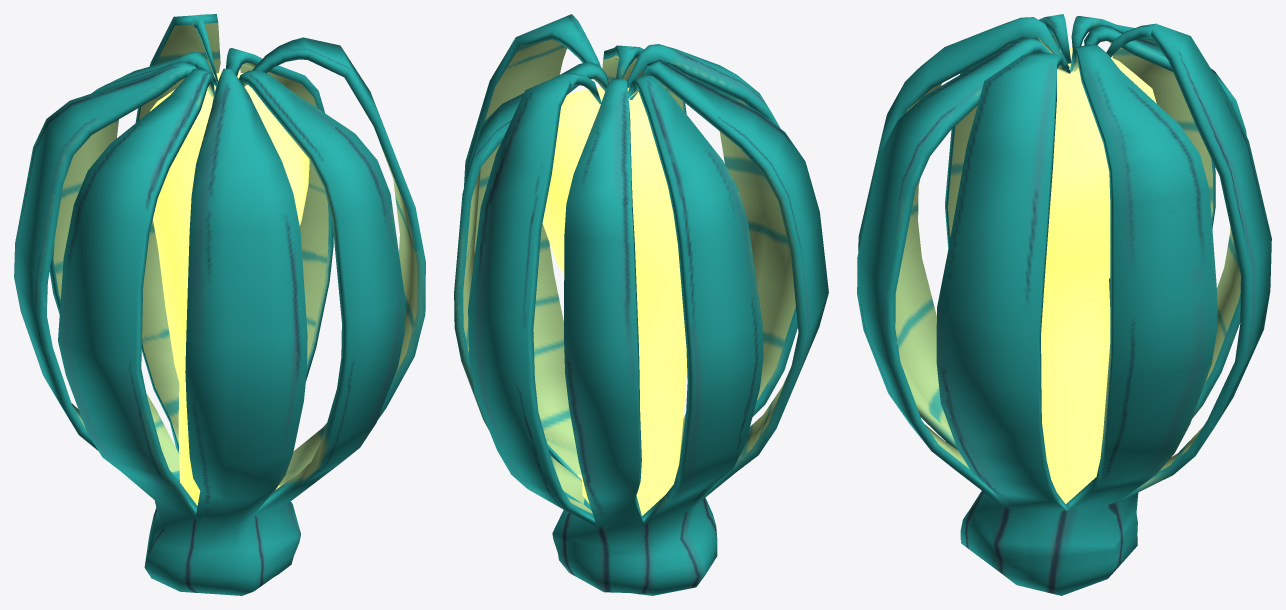
The model's file is Adult Tree.fbx.
The picture shows the model from 3 angles, left to right: view 1: azimuth 30°, elevation 25°; view 2: azimuth 150°, elevation 25°; view 3: azimuth 270°, elevation 25°; orthographic projection. The views are drawn at different scales.
Parts seen in each view (by area): view 1: adult tree, Adult core; view 2: adult tree, Adult core; view 3: adult tree, Adult core.
Boxes of the visible parts, x1,y1,x2,y2 form: adult tree: (14, 14, 425, 595); Adult core: (150, 72, 309, 505); adult tree: (454, 14, 828, 595); Adult core: (542, 87, 686, 515); adult tree: (857, 14, 1271, 595); Adult core: (1041, 45, 1156, 504).
Bounding box in the file's own units: 211 × 306 × 206.
